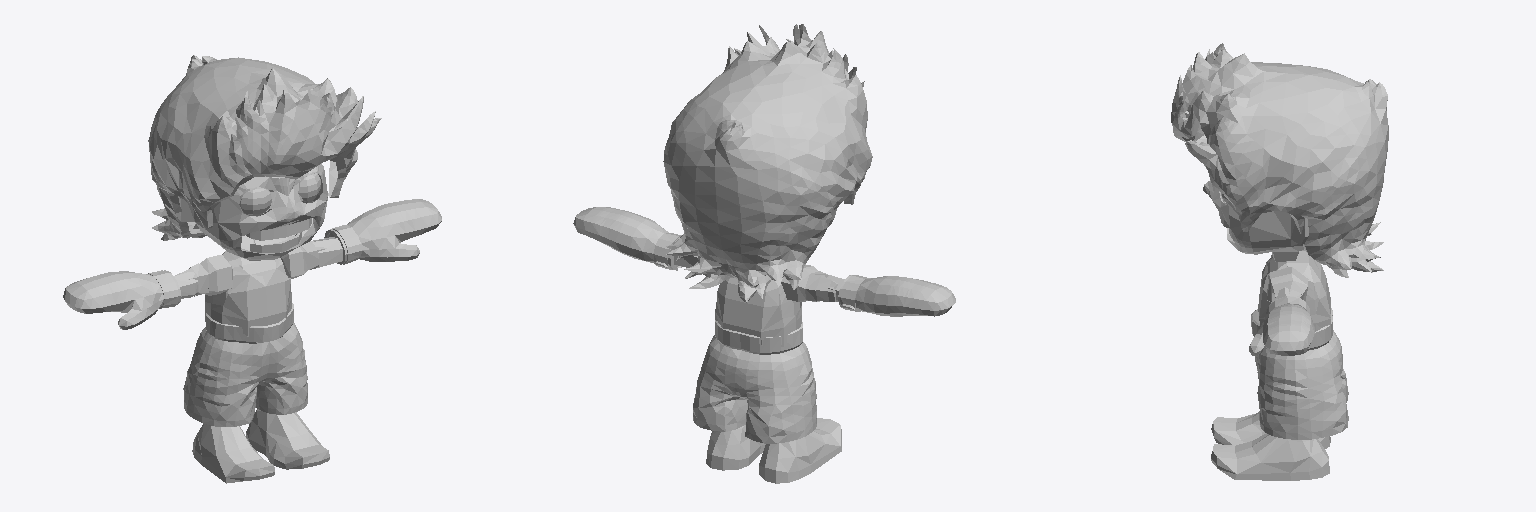
File: fred_mac_model.obj
The picture shows the model from 3 angles: view 1: azimuth 30°, elevation 25°; view 2: azimuth 150°, elevation 25°; view 3: azimuth 270°, elevation 25°; orthographic projection.
Visible parts, largest first — view 1: node_Mesh_157_mesh_mesh0_geometry_13d58954_478c_42ca_a658_a085a0, node_Mesh_166_mesh_mesh0_geometry_ddb2eb7e_f128_4d8a_8290_6a330b, node_Scene_125_mesh_mesh0_geometry_a132ed2b_1d41_4f0f_be70_f5f6a, node_Mesh_165_mesh_mesh0_geometry_e586a414_c070_4269_8c42_c7107b, node_Scene_136_mesh_mesh0_geometry_b41f64e7_86fc_466b_9649_5f9b0, node_Mesh_164_mesh_mesh0_geometry_f7b38930_6eb5_4498_953d_ca6a6e, Scene_104_mesh_mesh0_geometry_adf8a314_92bb_4a47_8670_0890dbf157, node_Scene_117_mesh_mesh0_geometry_f42edbfb_7560_4f76_a2f9_e9038, node_Scene_139_mesh_mesh0_geometry_7d24eac3_e951_49ce_adc1_5b4da, node_Scene_134_mesh_mesh0_geometry_9898c8e7_26b1_4353_b9f3_61de1, node_Scene_132_mesh_mesh0_geometry_d1c02285_4c4f_4750_b4a7_5e756; view 2: node_Mesh_157_mesh_mesh0_geometry_13d58954_478c_42ca_a658_a085a0, node_Mesh_166_mesh_mesh0_geometry_ddb2eb7e_f128_4d8a_8290_6a330b, node_Mesh_164_mesh_mesh0_geometry_f7b38930_6eb5_4498_953d_ca6a6e, node_Mesh_165_mesh_mesh0_geometry_e586a414_c070_4269_8c42_c7107b, node_Scene_136_mesh_mesh0_geometry_b41f64e7_86fc_466b_9649_5f9b0, node_Scene_117_mesh_mesh0_geometry_f42edbfb_7560_4f76_a2f9_e9038, Scene_104_mesh_mesh0_geometry_adf8a314_92bb_4a47_8670_0890dbf157, node_Scene_139_mesh_mesh0_geometry_7d24eac3_e951_49ce_adc1_5b4da; view 3: node_Mesh_157_mesh_mesh0_geometry_13d58954_478c_42ca_a658_a085a0, node_Mesh_166_mesh_mesh0_geometry_ddb2eb7e_f128_4d8a_8290_6a330b, Scene_104_mesh_mesh0_geometry_adf8a314_92bb_4a47_8670_0890dbf157, node_Scene_125_mesh_mesh0_geometry_a132ed2b_1d41_4f0f_be70_f5f6a, node_Mesh_165_mesh_mesh0_geometry_e586a414_c070_4269_8c42_c7107b, node_Scene_136_mesh_mesh0_geometry_b41f64e7_86fc_466b_9649_5f9b0, node_Scene_117_mesh_mesh0_geometry_f42edbfb_7560_4f76_a2f9_e9038, node_Scene_134_mesh_mesh0_geometry_9898c8e7_26b1_4353_b9f3_61de1.
Part boxes in pixels (left/top/right/bottom): node_Mesh_157_mesh_mesh0_geometry_13d58954_478c_42ca_a658_a085a0: left=148, top=55, right=381, bottom=240; node_Mesh_166_mesh_mesh0_geometry_ddb2eb7e_f128_4d8a_8290_6a330b: left=183, top=303, right=307, bottom=426; node_Scene_125_mesh_mesh0_geometry_a132ed2b_1d41_4f0f_be70_f5f6a: left=173, top=163, right=327, bottom=260; node_Mesh_165_mesh_mesh0_geometry_e586a414_c070_4269_8c42_c7107b: left=324, top=199, right=441, bottom=264; node_Scene_136_mesh_mesh0_geometry_b41f64e7_86fc_466b_9649_5f9b0: left=205, top=251, right=291, bottom=336; node_Mesh_164_mesh_mesh0_geometry_f7b38930_6eb5_4498_953d_ca6a6e: left=63, top=270, right=180, bottom=329; Scene_104_mesh_mesh0_geometry_adf8a314_92bb_4a47_8670_0890dbf157: left=246, top=409, right=329, bottom=469; node_Scene_117_mesh_mesh0_geometry_f42edbfb_7560_4f76_a2f9_e9038: left=192, top=424, right=274, bottom=483; node_Scene_139_mesh_mesh0_geometry_7d24eac3_e951_49ce_adc1_5b4da: left=175, top=255, right=232, bottom=296; node_Scene_134_mesh_mesh0_geometry_9898c8e7_26b1_4353_b9f3_61de1: left=280, top=241, right=326, bottom=278; node_Scene_132_mesh_mesh0_geometry_d1c02285_4c4f_4750_b4a7_5e756: left=313, top=237, right=342, bottom=267; node_Mesh_157_mesh_mesh0_geometry_13d58954_478c_42ca_a658_a085a0: left=663, top=24, right=872, bottom=302; node_Mesh_166_mesh_mesh0_geometry_ddb2eb7e_f128_4d8a_8290_6a330b: left=693, top=320, right=816, bottom=443; node_Mesh_164_mesh_mesh0_geometry_f7b38930_6eb5_4498_953d_ca6a6e: left=838, top=275, right=955, bottom=316; node_Mesh_165_mesh_mesh0_geometry_e586a414_c070_4269_8c42_c7107b: left=573, top=207, right=681, bottom=270; node_Scene_136_mesh_mesh0_geometry_b41f64e7_86fc_466b_9649_5f9b0: left=715, top=278, right=801, bottom=346; node_Scene_117_mesh_mesh0_geometry_f42edbfb_7560_4f76_a2f9_e9038: left=759, top=418, right=841, bottom=483; Scene_104_mesh_mesh0_geometry_adf8a314_92bb_4a47_8670_0890dbf157: left=706, top=425, right=765, bottom=470; node_Scene_139_mesh_mesh0_geometry_7d24eac3_e951_49ce_adc1_5b4da: left=781, top=264, right=838, bottom=301; node_Mesh_157_mesh_mesh0_geometry_13d58954_478c_42ca_a658_a085a0: left=1171, top=43, right=1388, bottom=277; node_Mesh_166_mesh_mesh0_geometry_ddb2eb7e_f128_4d8a_8290_6a330b: left=1251, top=308, right=1348, bottom=439; Scene_104_mesh_mesh0_geometry_adf8a314_92bb_4a47_8670_0890dbf157: left=1211, top=433, right=1329, bottom=480; node_Scene_125_mesh_mesh0_geometry_a132ed2b_1d41_4f0f_be70_f5f6a: left=1203, top=180, right=1308, bottom=261; node_Mesh_165_mesh_mesh0_geometry_e586a414_c070_4269_8c42_c7107b: left=1249, top=296, right=1314, bottom=356; node_Scene_136_mesh_mesh0_geometry_b41f64e7_86fc_466b_9649_5f9b0: left=1258, top=249, right=1330, bottom=331; node_Scene_117_mesh_mesh0_geometry_f42edbfb_7560_4f76_a2f9_e9038: left=1211, top=412, right=1330, bottom=448; node_Scene_134_mesh_mesh0_geometry_9898c8e7_26b1_4353_b9f3_61de1: left=1267, top=267, right=1308, bottom=302.
Bounding box in the file's own units: 2.38 × 2.46 × 1.2.